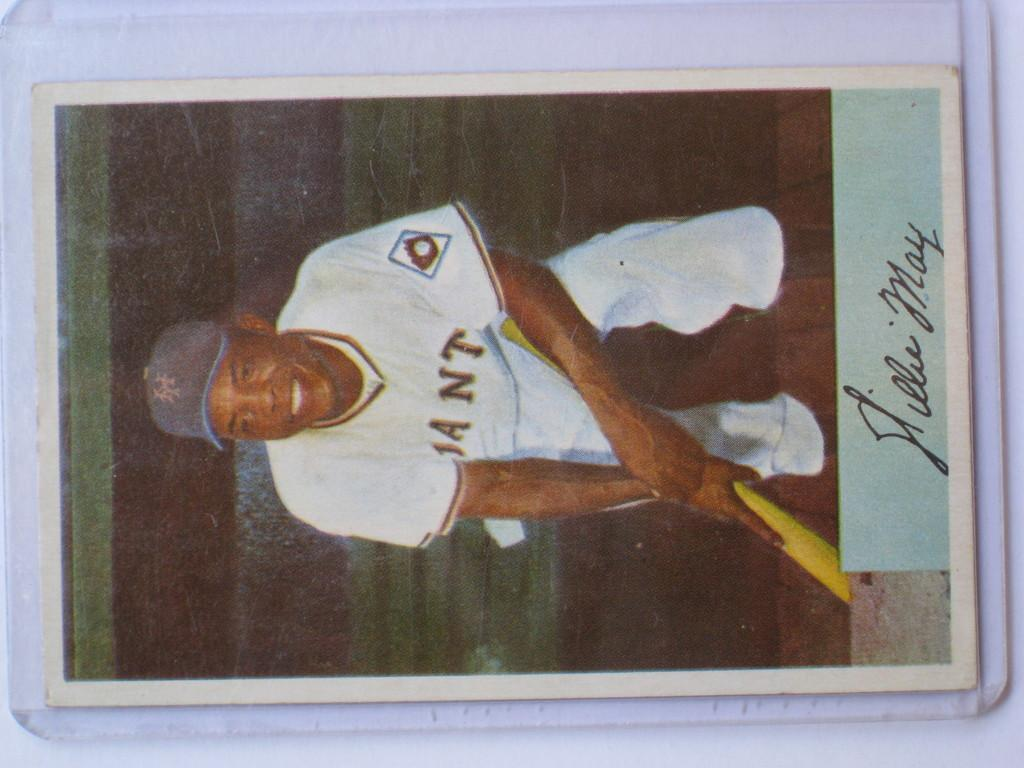Sem Máscara: (207, 330, 336, 438)
